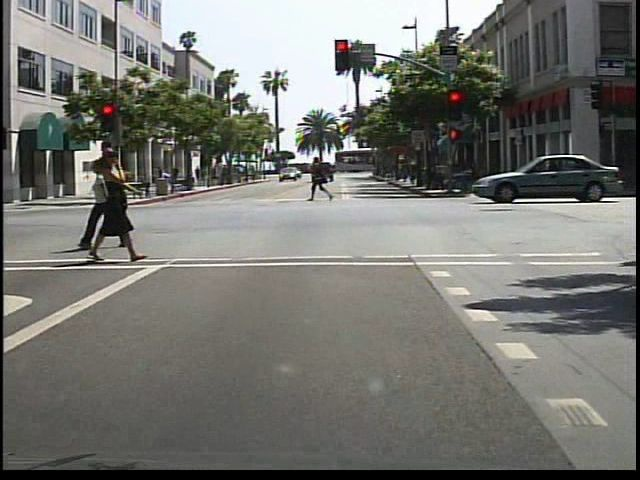person: (93, 141, 147, 265), (86, 156, 131, 250), (307, 154, 335, 204), (2, 147, 8, 271), (166, 162, 182, 190)
